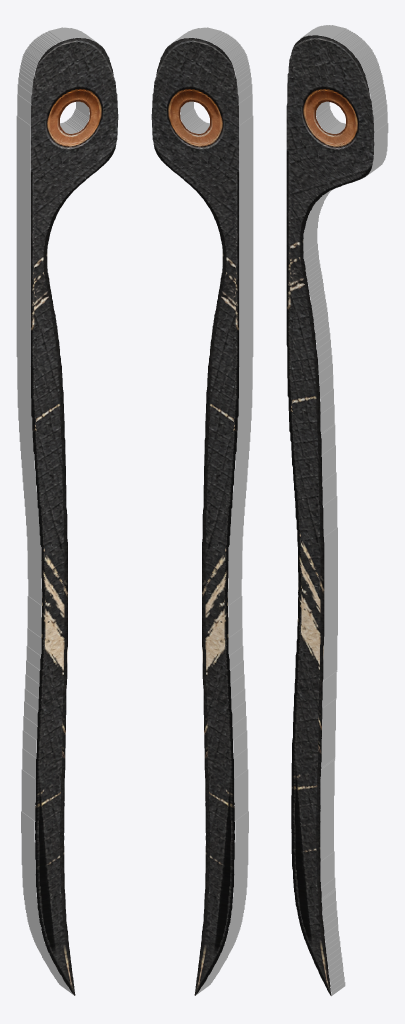
File: LowerLeg.glb
3 views of the same model, side by side, from view 1: azimuth 30°, elevation 25°; view 2: azimuth 150°, elevation 25°; view 3: azimuth 330°, elevation 25° (orthographic).
Visible parts, largest first — view 1: PaperVolume; view 2: PaperVolume; view 3: PaperVolume.
Boxes of the visible parts, bbox=[...] form: PaperVolume: bbox=[16, 27, 118, 995]; PaperVolume: bbox=[151, 27, 253, 995]; PaperVolume: bbox=[286, 25, 388, 995].
Size of the model in its own units: 0.3104 by 3.07 by 0.08.
3 materials, 2 textured.
